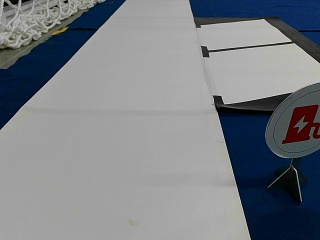battery: (265, 83, 319, 159)
